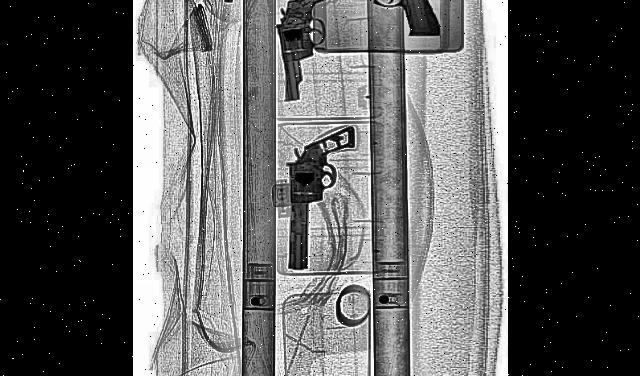Gun: (290, 126, 354, 268), (271, 0, 350, 107), (337, 0, 442, 45)
